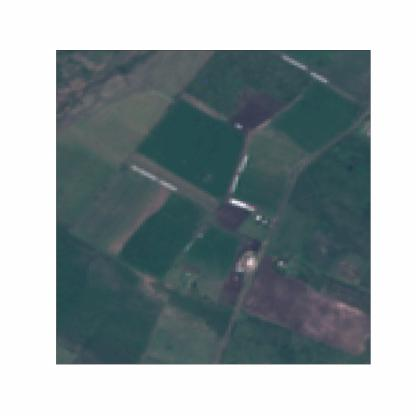silobolsa: (228, 196, 257, 212), (281, 52, 308, 69), (132, 164, 156, 180), (156, 177, 178, 191), (310, 70, 330, 84), (237, 156, 249, 173), (230, 172, 240, 192)
